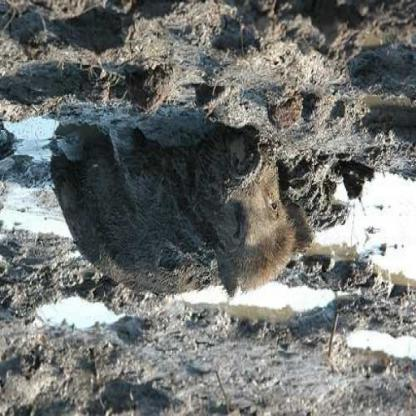boar: (35, 83, 300, 328)
